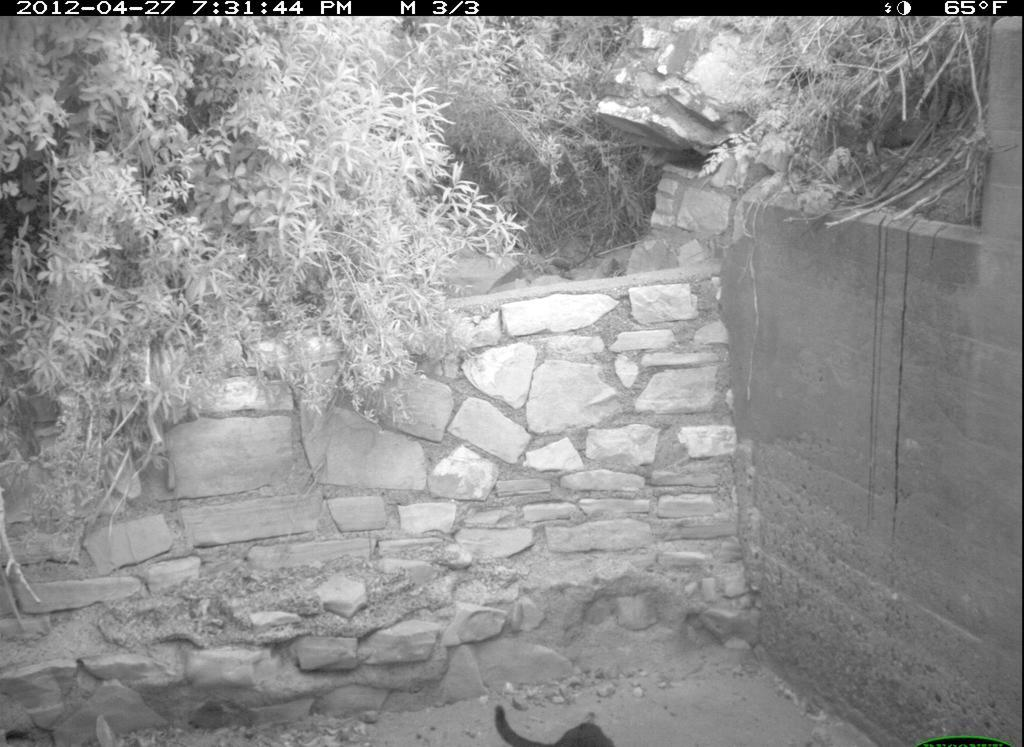cat: (482, 680, 633, 747)
